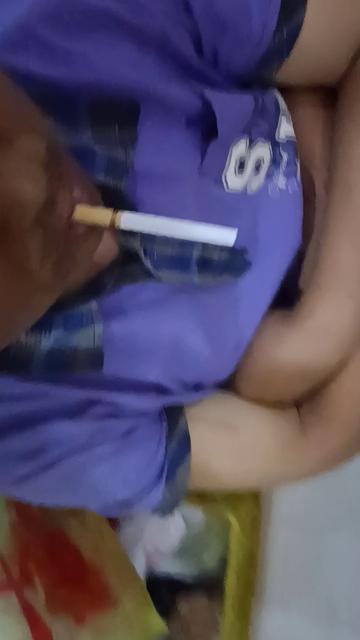Smoking: (68, 200, 240, 252)
